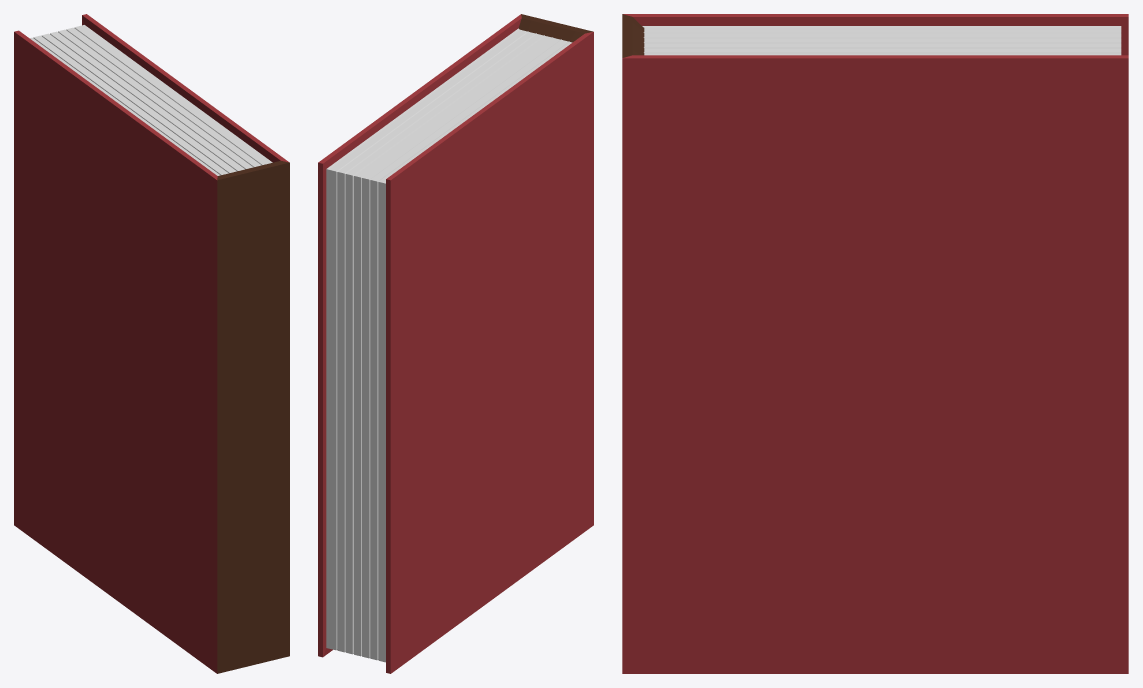
File: book3.fbx
3 renders of one model, left to right at view 1: azimuth 30°, elevation 25°; view 2: azimuth 150°, elevation 25°; view 3: azimuth 270°, elevation 25°, orthographic. The views are drawn at different scales.
Visible parts, largest first — view 1: Cube; view 2: Cube; view 3: Cube.
Part boxes in pixels (x1,y1,x2,y2): Cube: [14, 14, 289, 673]; Cube: [318, 14, 593, 673]; Cube: [622, 14, 1128, 673].
Size of the model in its own units: 12.22 by 79.32 by 59.13.
